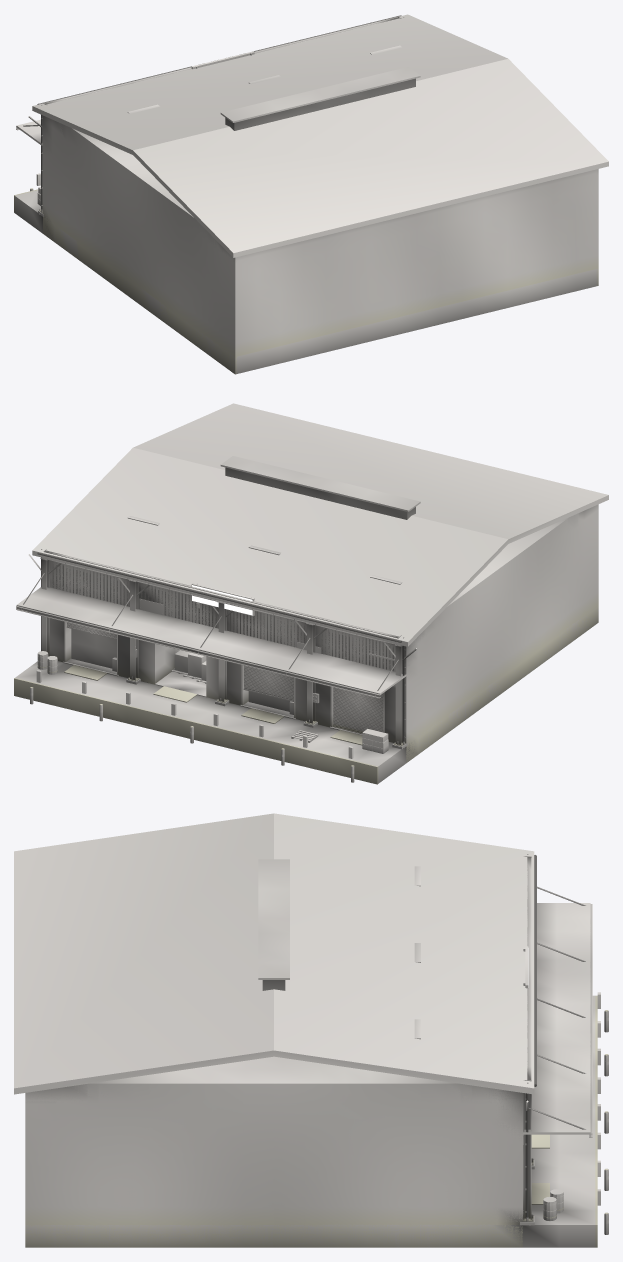
The model's file is freight_depot.glb.
The picture shows the model from 3 angles, top to bottom: view 1: azimuth 30°, elevation 25°; view 2: azimuth 150°, elevation 25°; view 3: azimuth 270°, elevation 25°; orthographic projection. The views are drawn at different scales.
Visible parts, largest first — view 1: freight_depot; view 2: freight_depot; view 3: freight_depot.
Part boxes in pixels (x1=…): freight_depot: x1=14, y1=14, x2=608, y2=374; freight_depot: x1=14, y1=403, x2=608, y2=784; freight_depot: x1=14, y1=813, x2=608, y2=1247.
Size of the model in its own units: 25.67 by 10.45 by 26.3.
